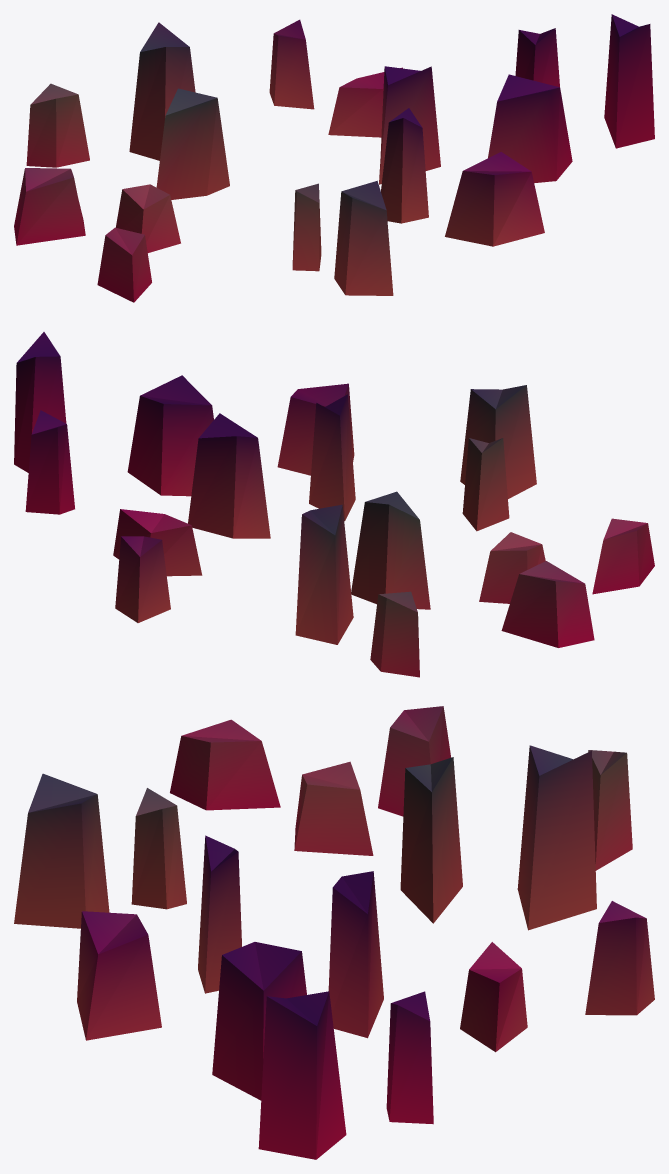
File: SM_CinderCanyon_Debris.fbx
The picture shows the model from 3 angles, top to bottom: view 1: azimuth 30°, elevation 25°; view 2: azimuth 150°, elevation 25°; view 3: azimuth 270°, elevation 25°; orthographic projection. The views are drawn at different scales.
Visible parts, largest first — view 1: SM_CinderCanyon_Debris; view 2: SM_CinderCanyon_Debris; view 3: SM_CinderCanyon_Debris.
Boxes of the visible parts, left/top/right/bottom form: SM_CinderCanyon_Debris: left=14, top=14, right=654, bottom=302; SM_CinderCanyon_Debris: left=14, top=332, right=654, bottom=677; SM_CinderCanyon_Debris: left=14, top=706, right=654, bottom=1159.
Bounding box in the file's own units: 100 × 70 × 20.
